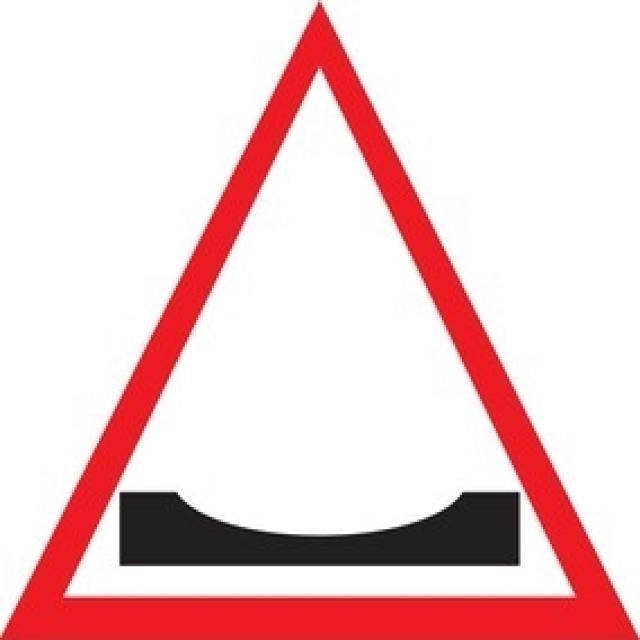dangerous dip: (16, 10, 625, 628)
